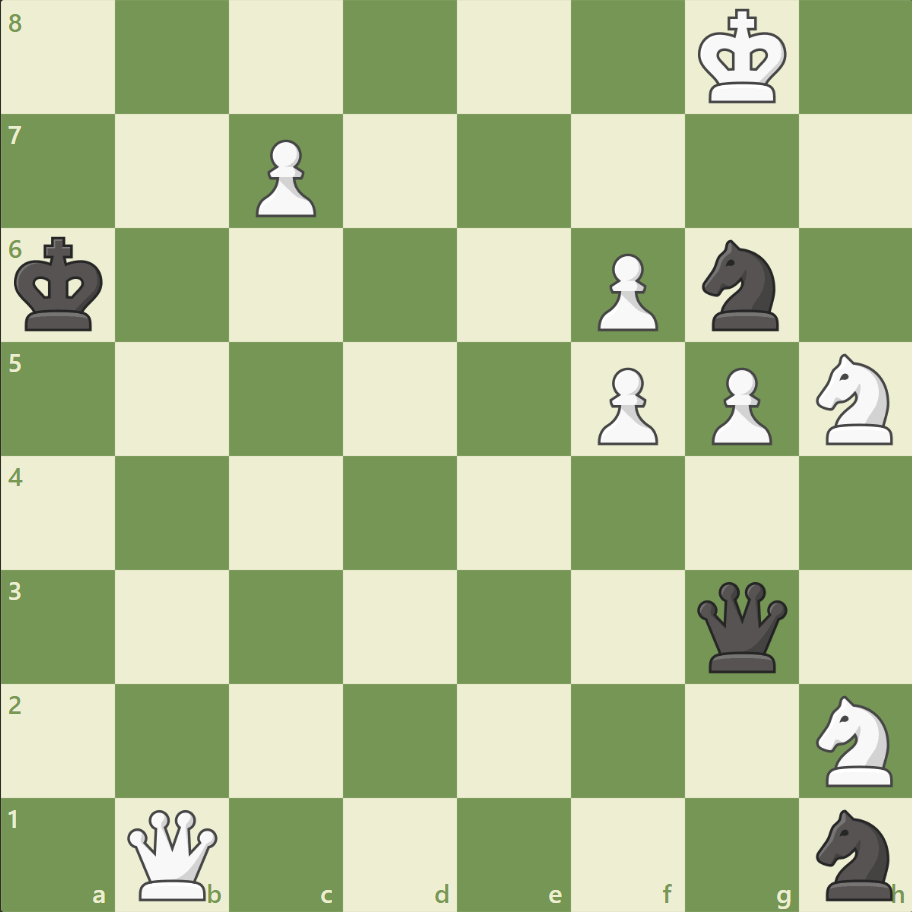K: (692, 4, 792, 112)
N: (806, 688, 903, 791), (806, 348, 903, 450)
P: (247, 132, 322, 223), (701, 359, 776, 450), (588, 246, 662, 337), (588, 359, 662, 450)
Q: (124, 804, 223, 903)
k: (11, 231, 111, 339)
n: (692, 234, 789, 337), (806, 802, 903, 904)
q: (691, 576, 790, 676)
